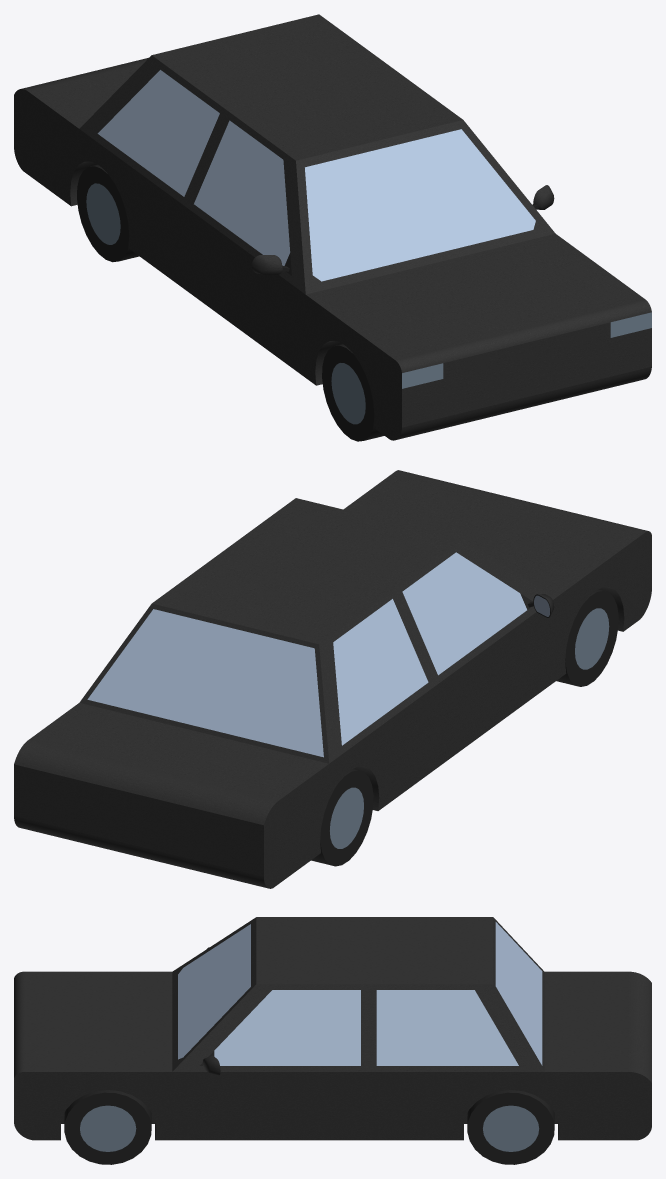
Rendered from carbon_car.dae.
3 views of the same model, one above another, from view 1: azimuth 30°, elevation 25°; view 2: azimuth 150°, elevation 25°; view 3: azimuth 270°, elevation 25° (orthographic). The views are drawn at different scales.
Visible parts, largest first — view 1: SketchUp (×10); view 2: SketchUp (×8); view 3: SketchUp (×9).
Part boxes in pixels (x1,y1,x2,y2): SketchUp (×10): [14, 14, 651, 441]; SketchUp (×8): [14, 470, 651, 888]; SketchUp (×9): [14, 917, 651, 1164].
Size of the model in its own units: 71.26 by 160 by 45.82.
Materials: 5 (1 with a texture image).
